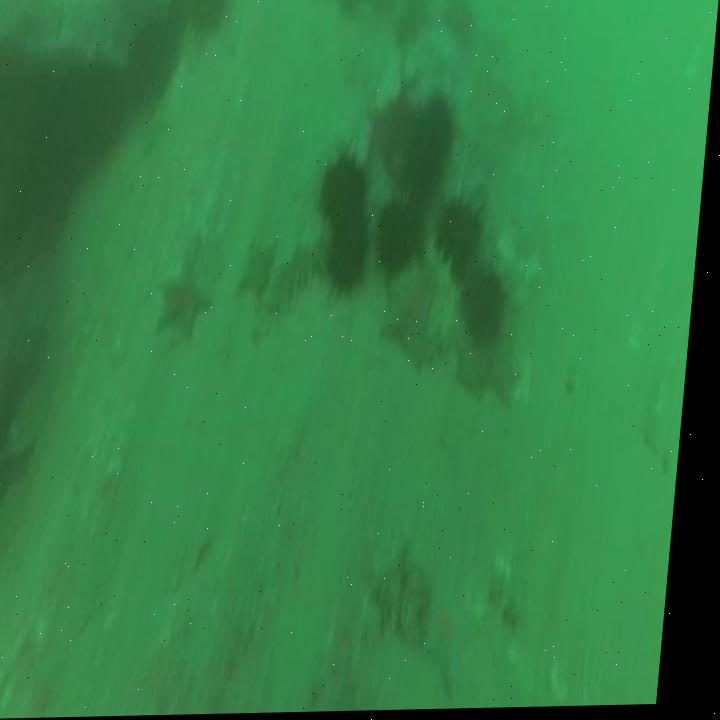echinus: (404, 99, 461, 192), (125, 22, 178, 99), (323, 155, 371, 223), (378, 202, 425, 269), (441, 199, 486, 266), (466, 275, 512, 340), (335, 217, 374, 291)
holothurian: (384, 571, 439, 638), (280, 243, 334, 310)
starfish: (432, 588, 494, 706), (387, 280, 442, 366), (160, 268, 220, 337), (243, 238, 281, 301), (497, 351, 530, 410), (462, 346, 499, 386)
